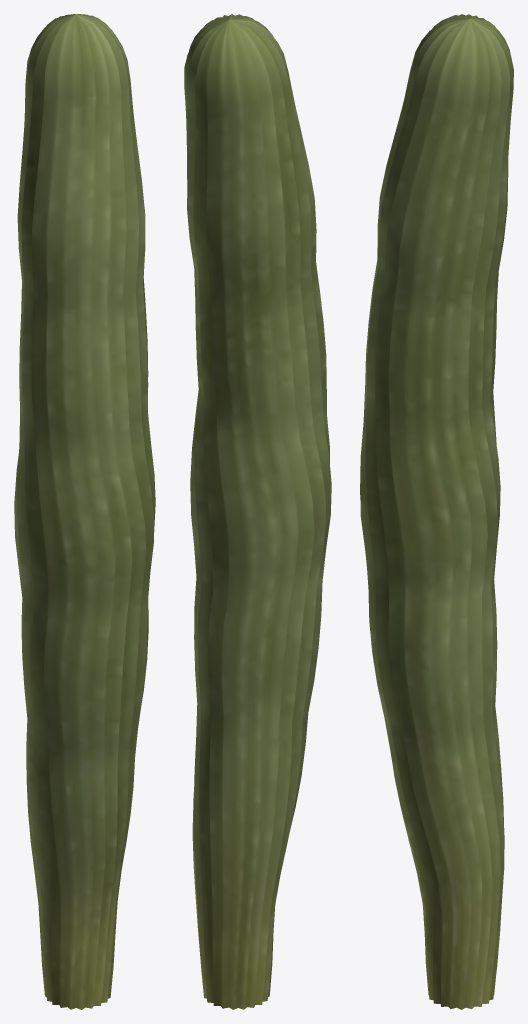
The model's file is p_saguaro_b.glb.
The picture shows the model from 3 angles, left to right: view 1: azimuth 30°, elevation 25°; view 2: azimuth 150°, elevation 25°; view 3: azimuth 270°, elevation 25°; orthographic projection.
Parts seen in each view (by area): view 1: Carnegiea_gigantea_HD; view 2: Carnegiea_gigantea_HD; view 3: Carnegiea_gigantea_HD.
Boxes of the visible parts, <box> form: Carnegiea_gigantea_HD: <box>14,14,155,1009</box>; Carnegiea_gigantea_HD: <box>184,14,331,1009</box>; Carnegiea_gigantea_HD: <box>360,14,513,1009</box>.
Size of the model in its own units: 0.1088 by 0.832 by 0.1186.
1 material, 1 textured.
